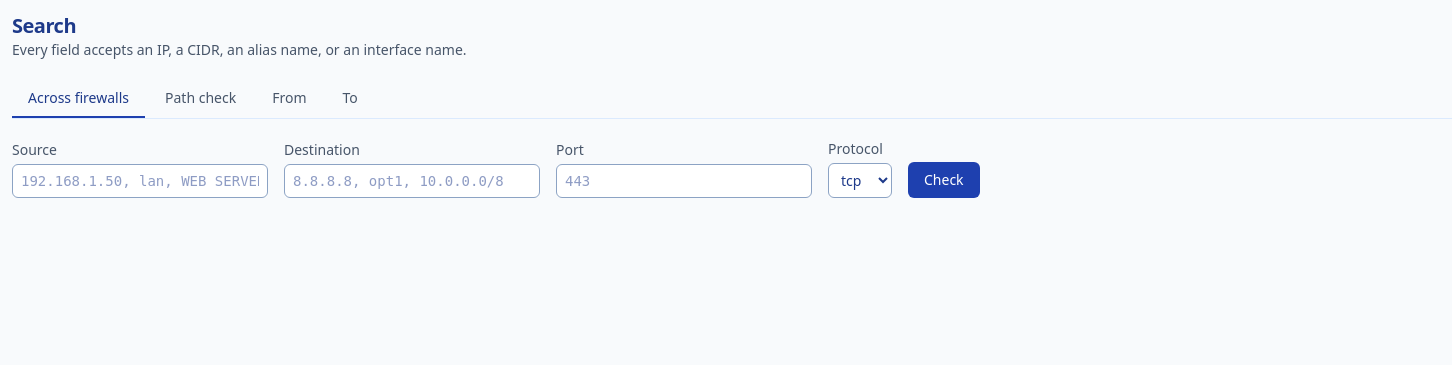
Test: SearchPage › says when the walk left the loaded firewalls
Type "192.168.1.50" into the field labelled "Source" at (140, 181), box top-left (12, 164), bottom-right (268, 198)
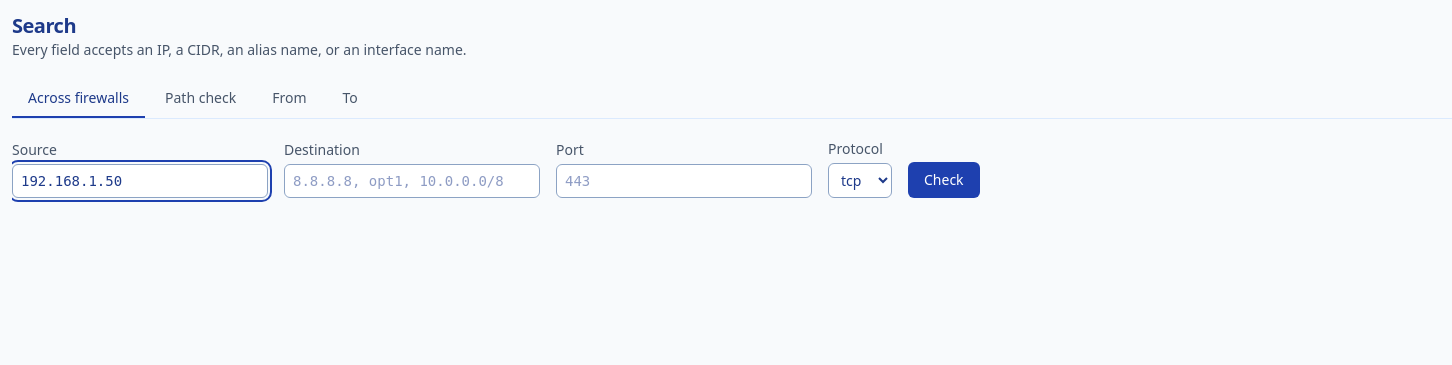
Type "8.8.8.8" into the field labelled "Destination" at (412, 181), box top-left (284, 164), bottom-right (540, 198)
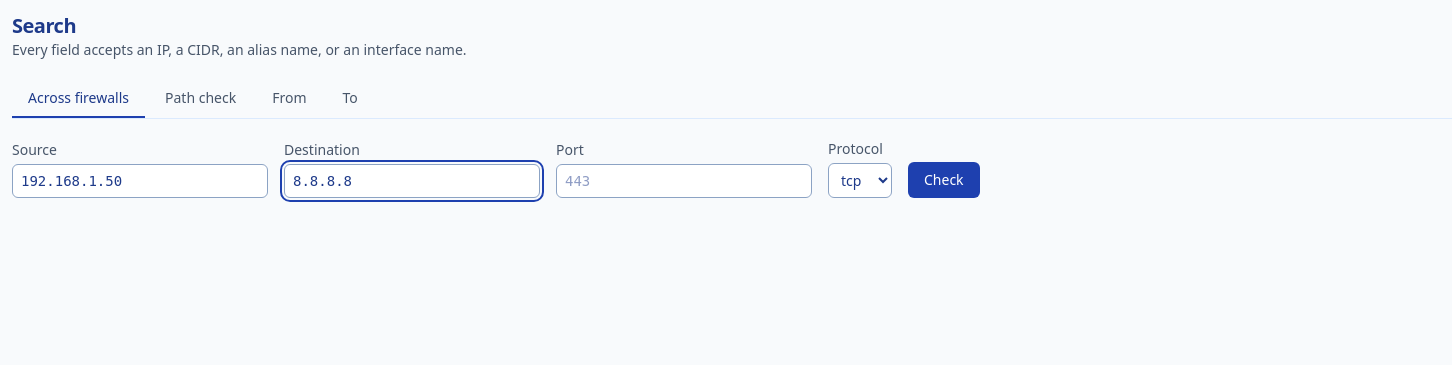
Click the button "Check" at (944, 180), box top-left (908, 162), bottom-right (980, 198)
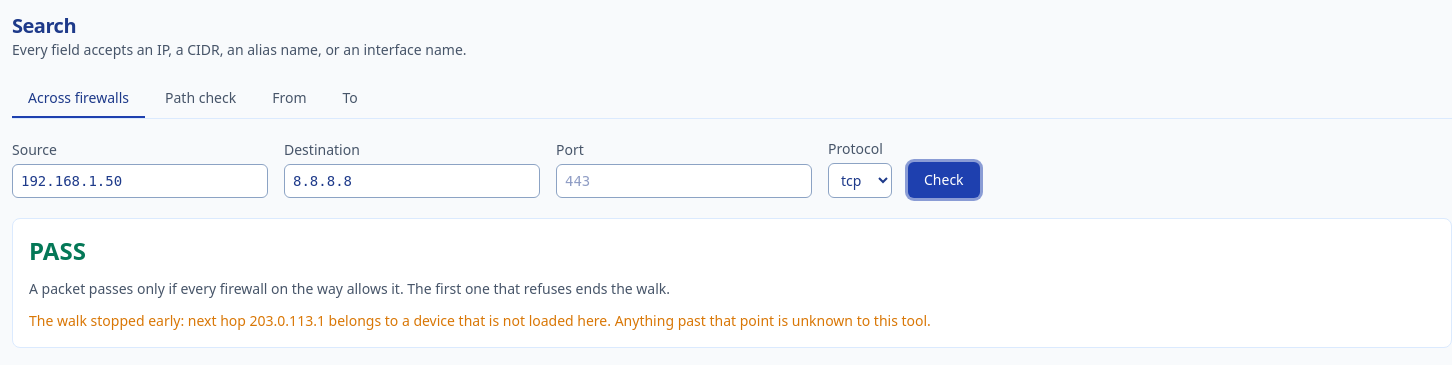
Expected: the text "not loaded here" is shown, top-left (188, 311), bottom-right (607, 330)
